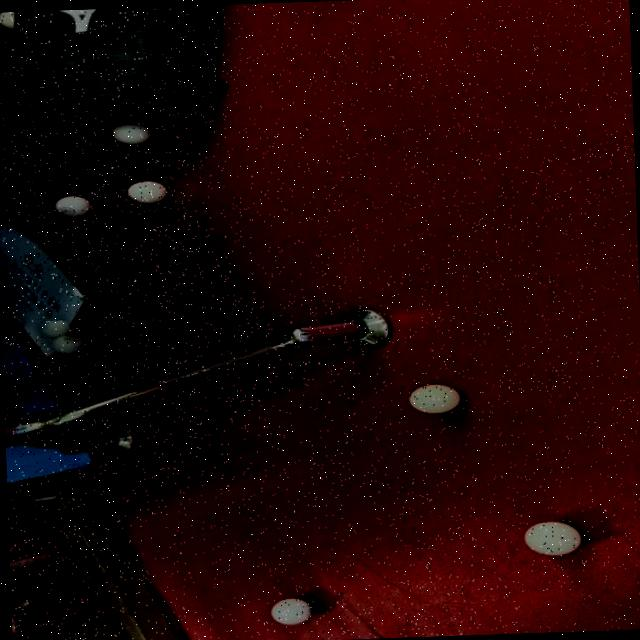ping-pong-ball: (512, 514, 590, 564), (256, 594, 324, 626), (404, 380, 462, 416), (107, 119, 156, 145), (123, 177, 170, 204), (52, 193, 92, 218), (36, 316, 75, 338), (46, 334, 85, 354)
